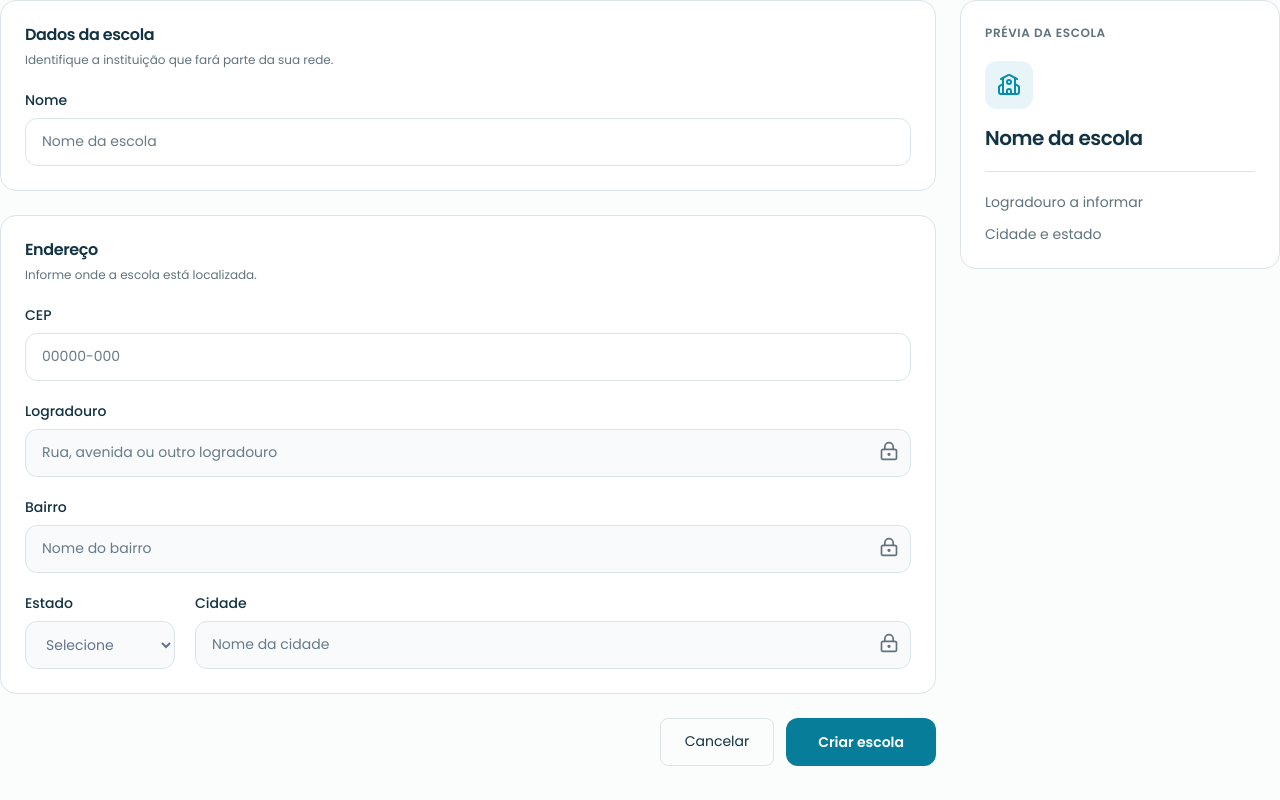
Test: CEP ausente ou incompleto habilita edição manual: null
Type "Escola Teste" into the field named "name".
click(468, 142); type("Escola Teste")  # box [25,118,911,166]
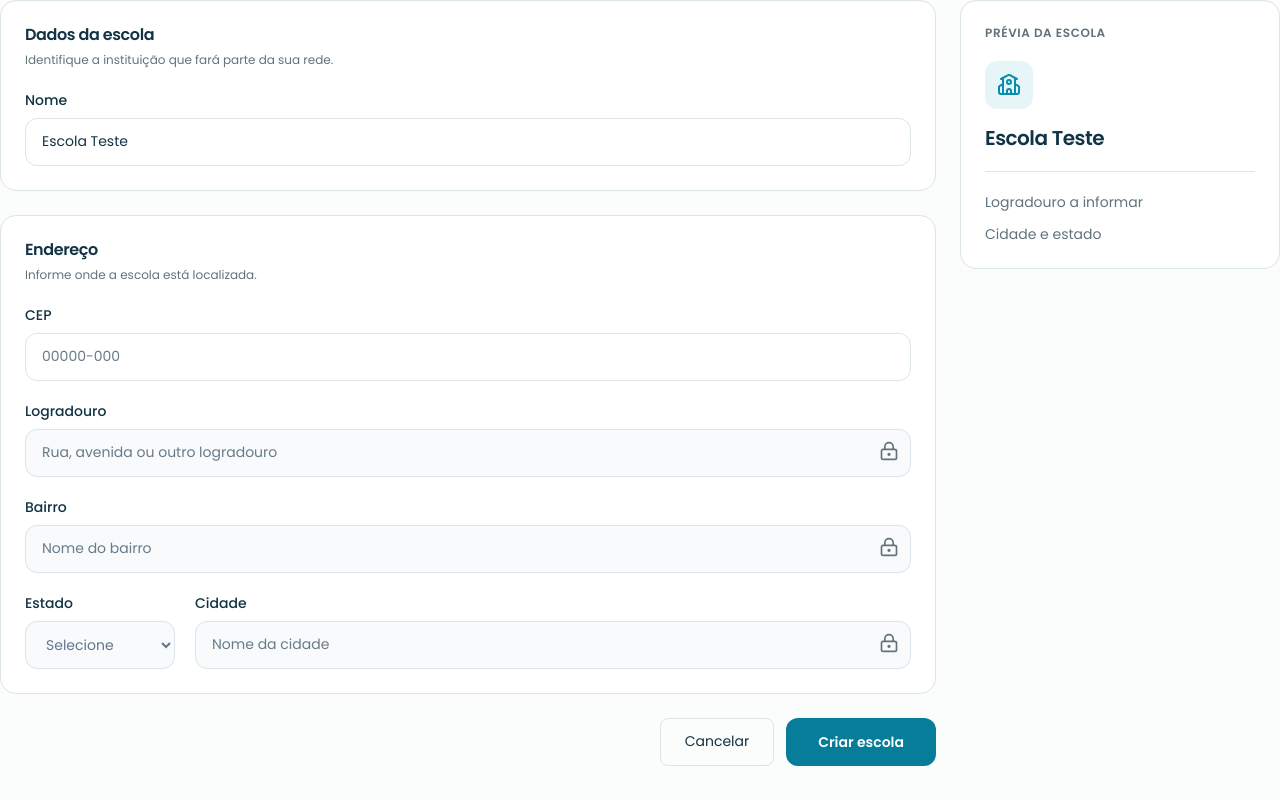
Type "01001000" into the field labelled "CEP".
click(468, 357); type("01001000")  # box [25,333,911,381]
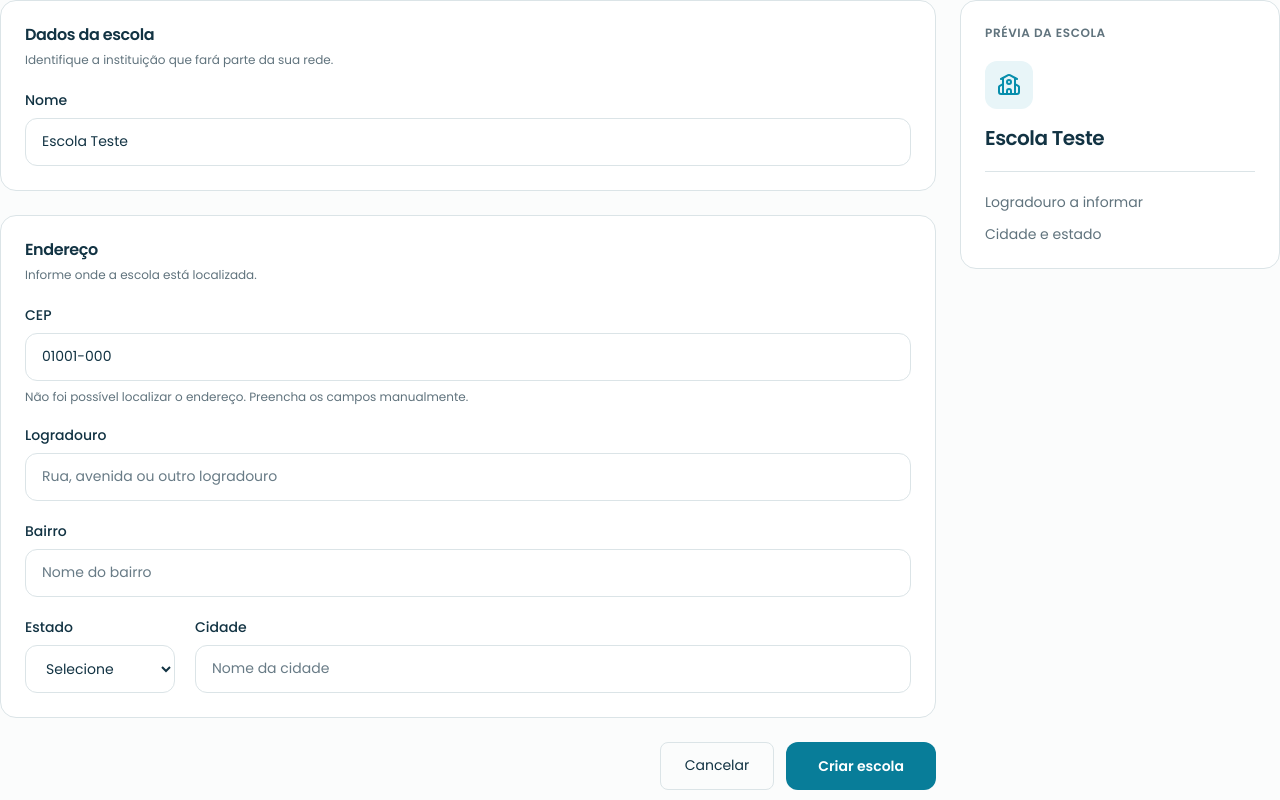
Expected: the field labelled "Logradouro" is enabled
Type "Rua Teste" into the field labelled "Logradouro".
click(468, 477); type("Rua Teste")  # box [25,453,911,501]
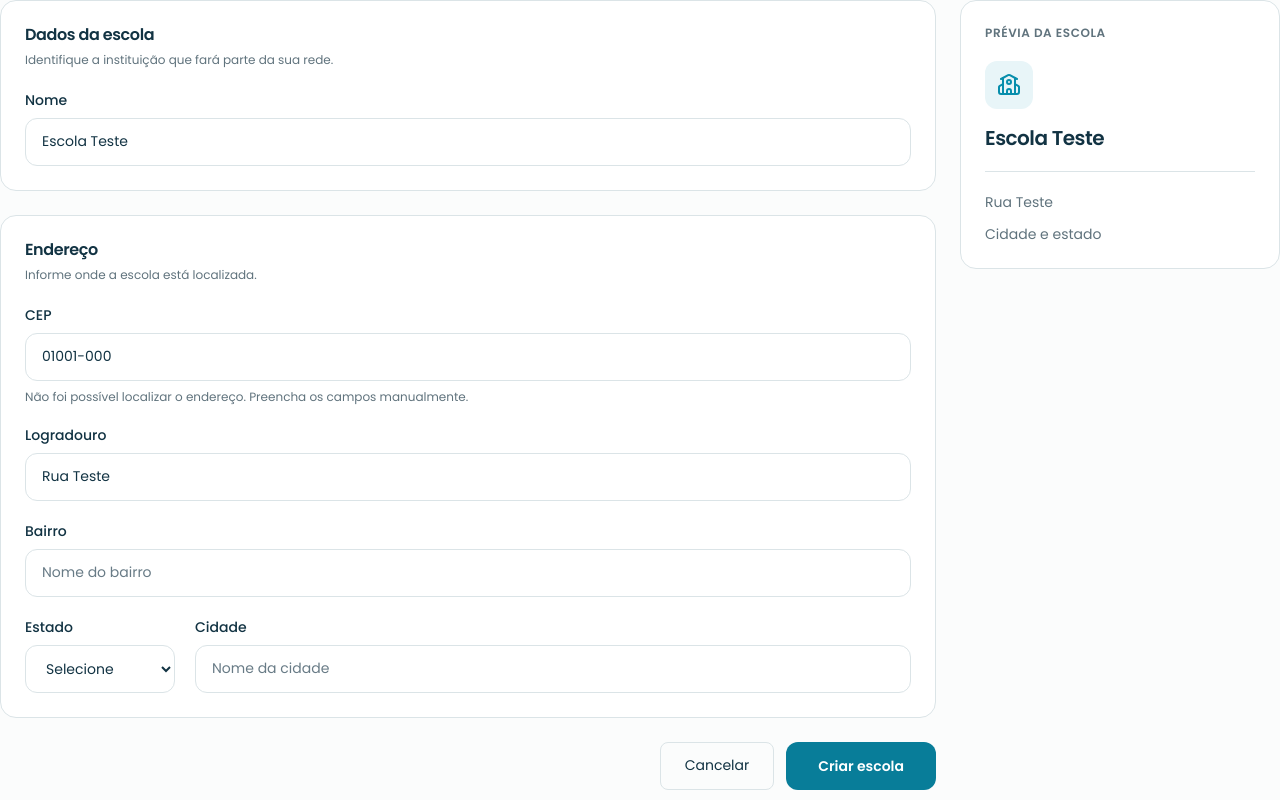
Type "Centro" into the field labelled "Bairro".
click(468, 573); type("Centro")  # box [25,549,911,597]
Select "SP" in the dropdown labelled "Estado" at (100, 669), box [25,645,175,693]
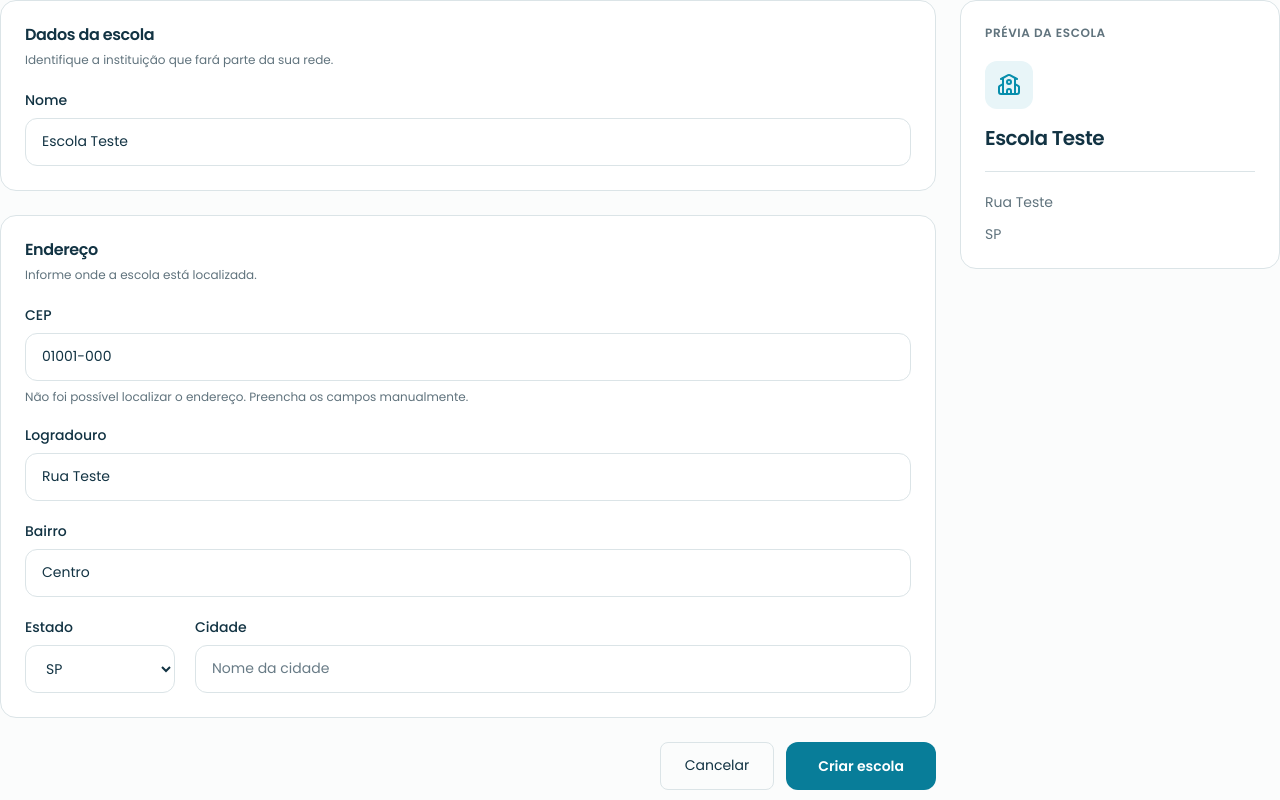
Type "São Paulo" into the field labelled "Cidade".
click(553, 669); type("São Paulo")  # box [195,645,911,693]
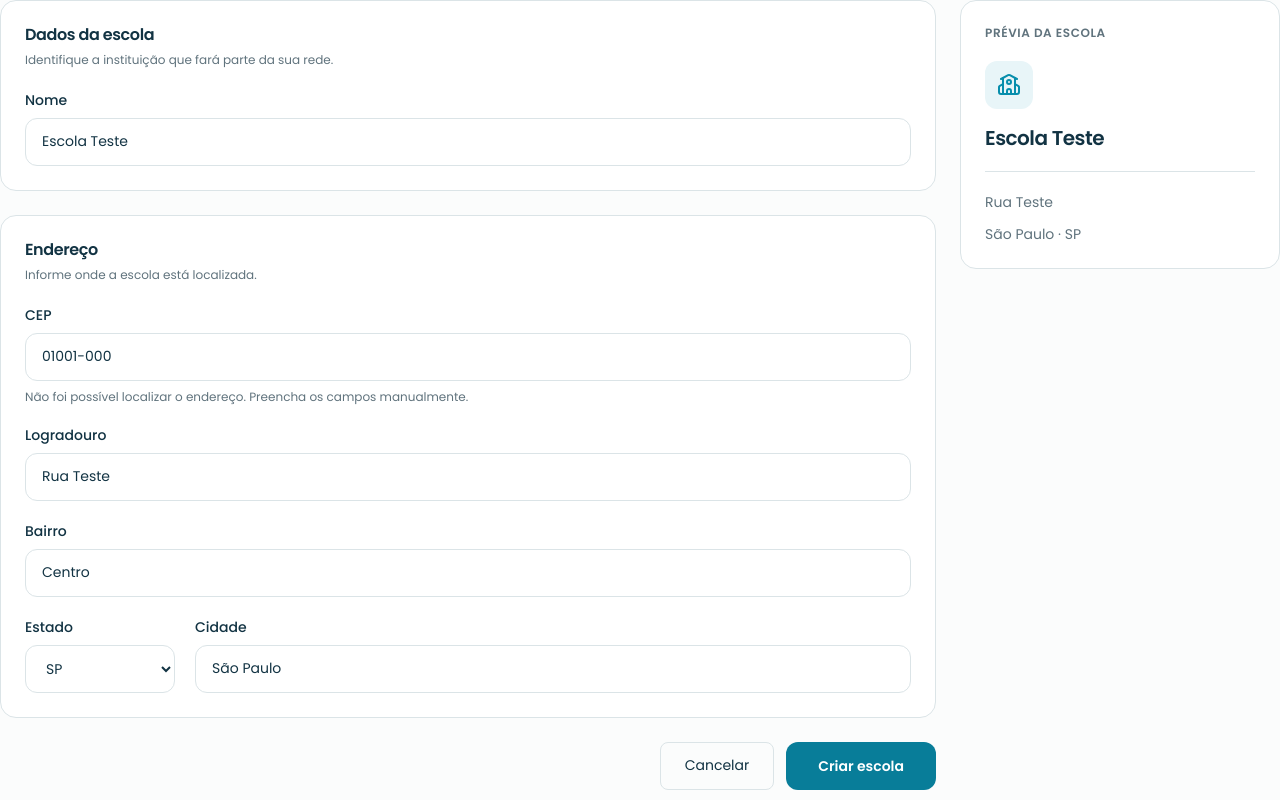
Submit the form
Expected: the button "Criar escola" is enabled, [786,742,936,790]
Replace the text in the field labelled "CEP" with "123" at (468, 357), box [25,333,911,381]
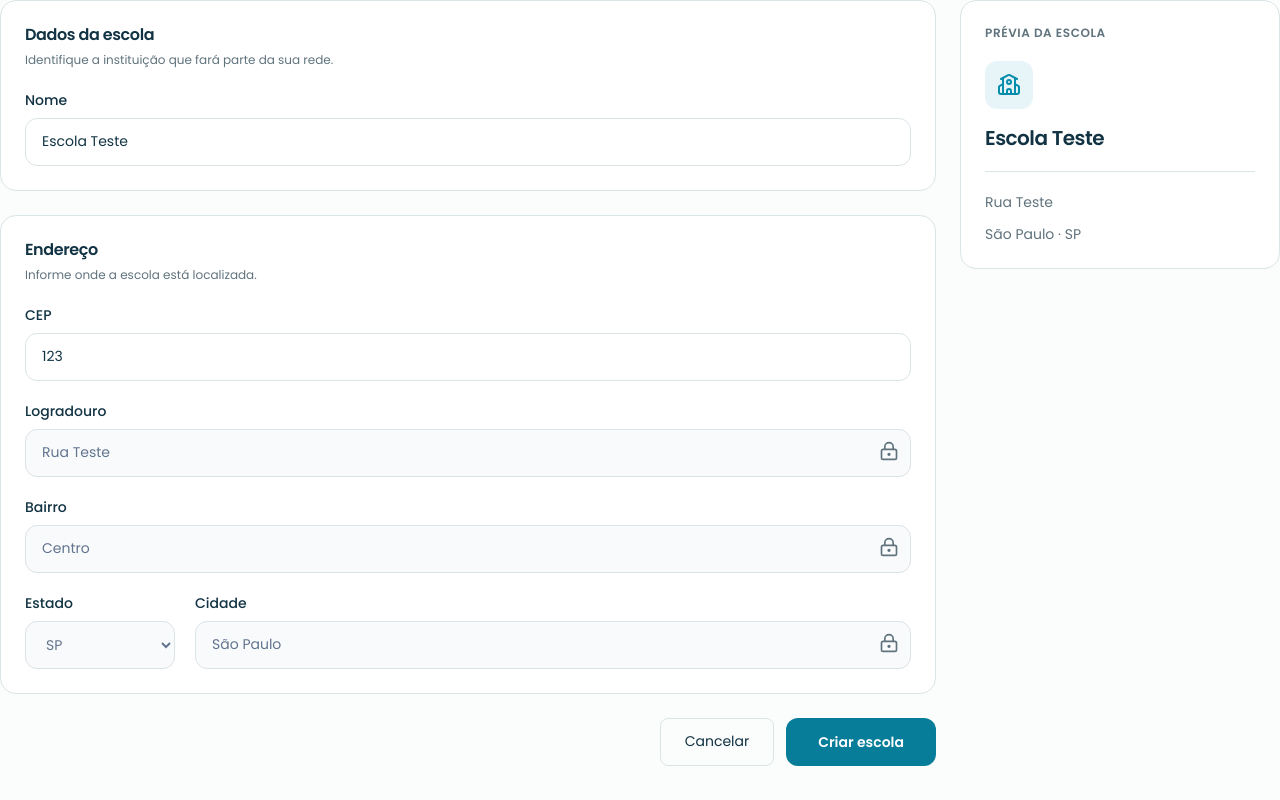
Expected: the field labelled "Logradouro" is disabled, [25,429,911,477]
